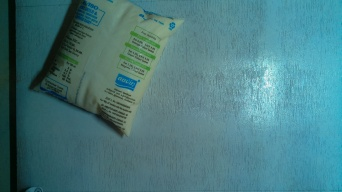m: (35, 1, 179, 142)
